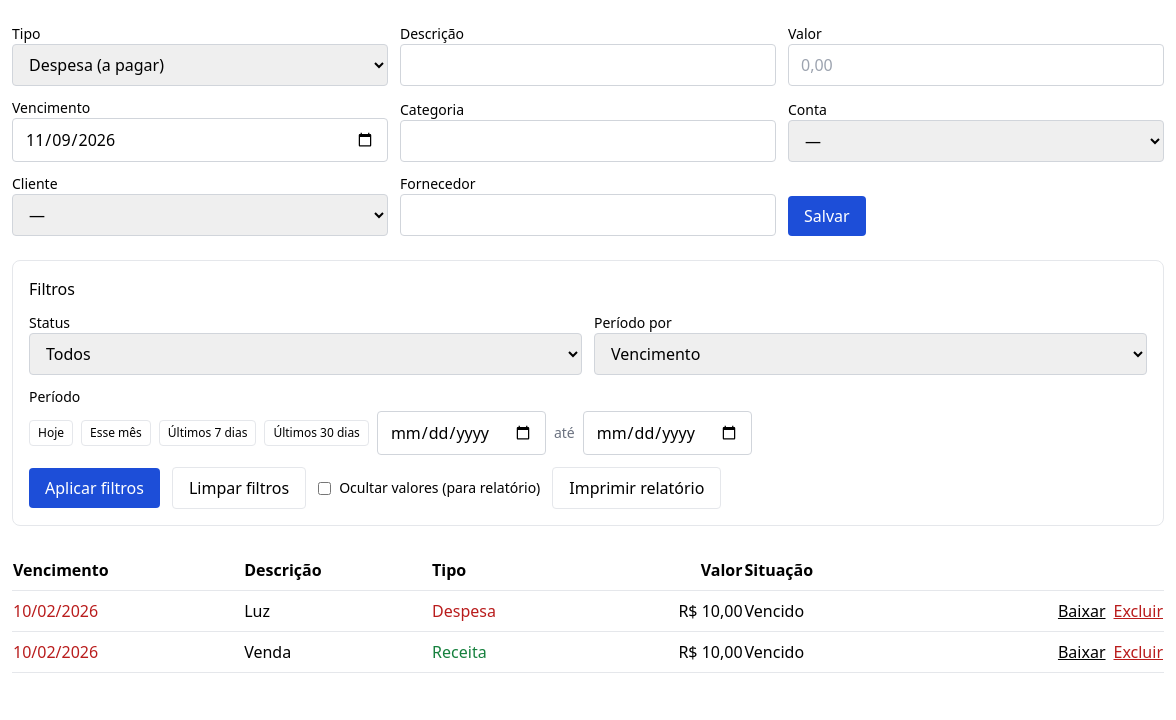
it: LancamentosPage › status "A pagar" mostra só despesas em aberto (ao aplicar)
Expected: the text "Luz" is shown, x1=243 y1=590 x2=431 y2=632
Select "A pagar" in the dropdown labelled "Status" at [306, 354], box x1=29 y1=333 x2=582 y2=375
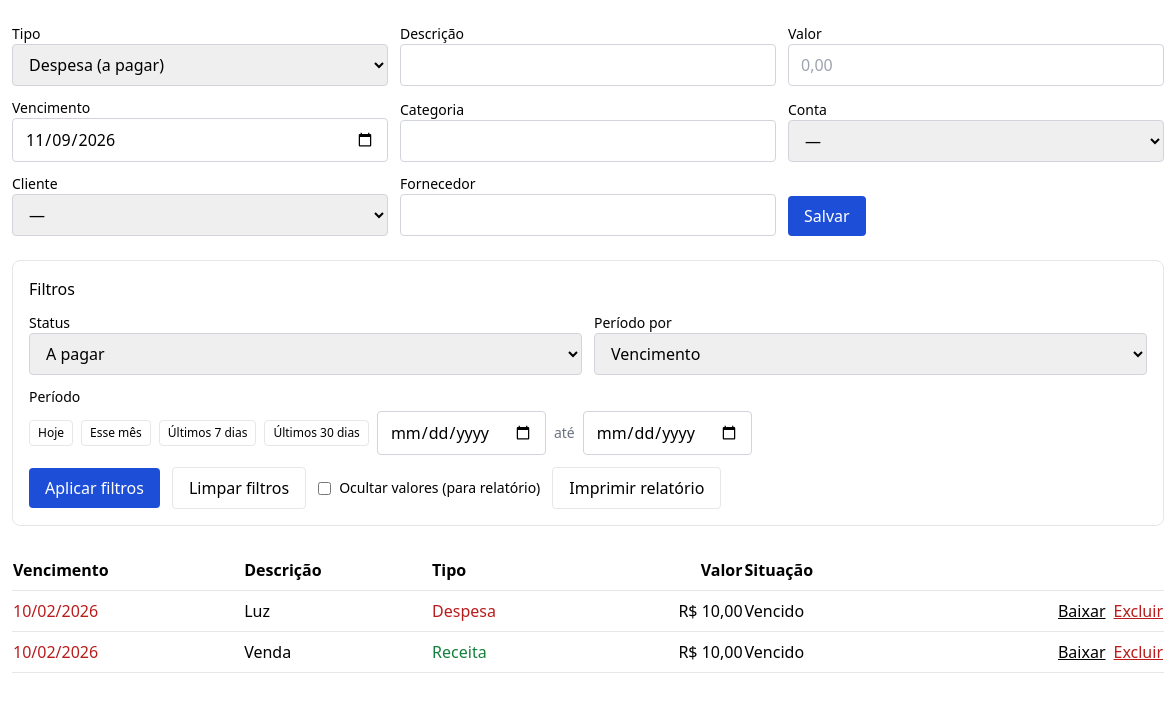
Click the button "Aplicar filtros" at [94, 488], box x1=29 y1=468 x2=160 y2=508
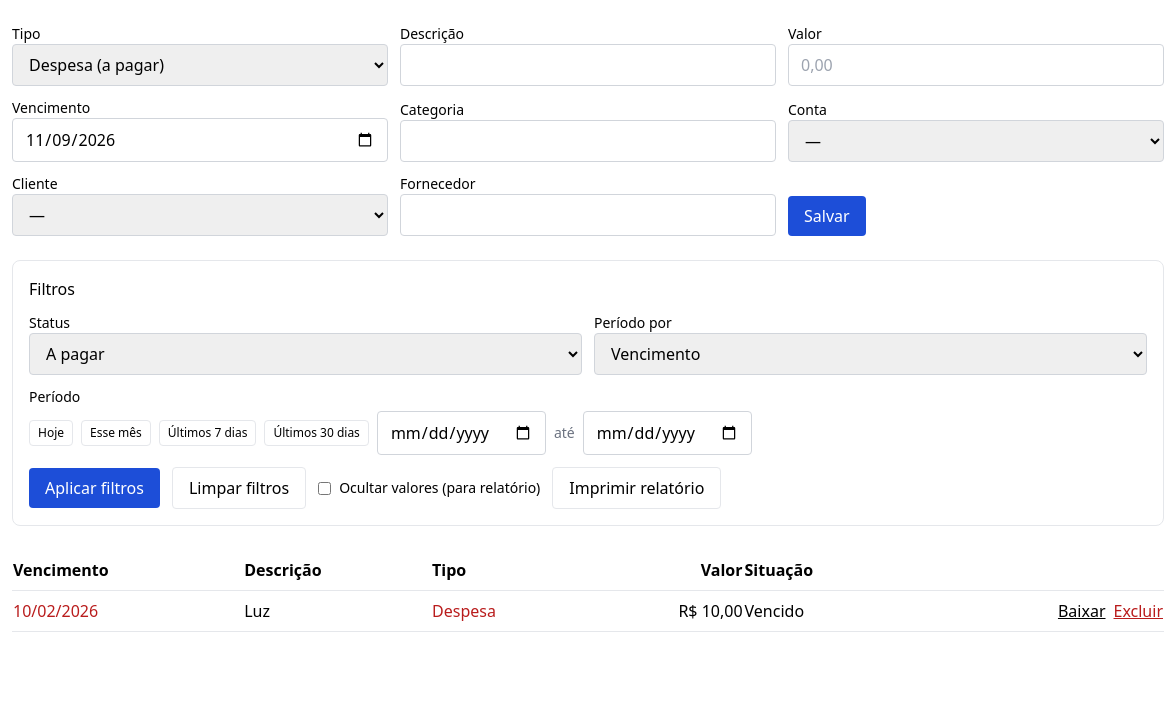
Expected: the text "Luz" is shown, x1=243 y1=590 x2=431 y2=632
Result: the text "Venda" is gone
